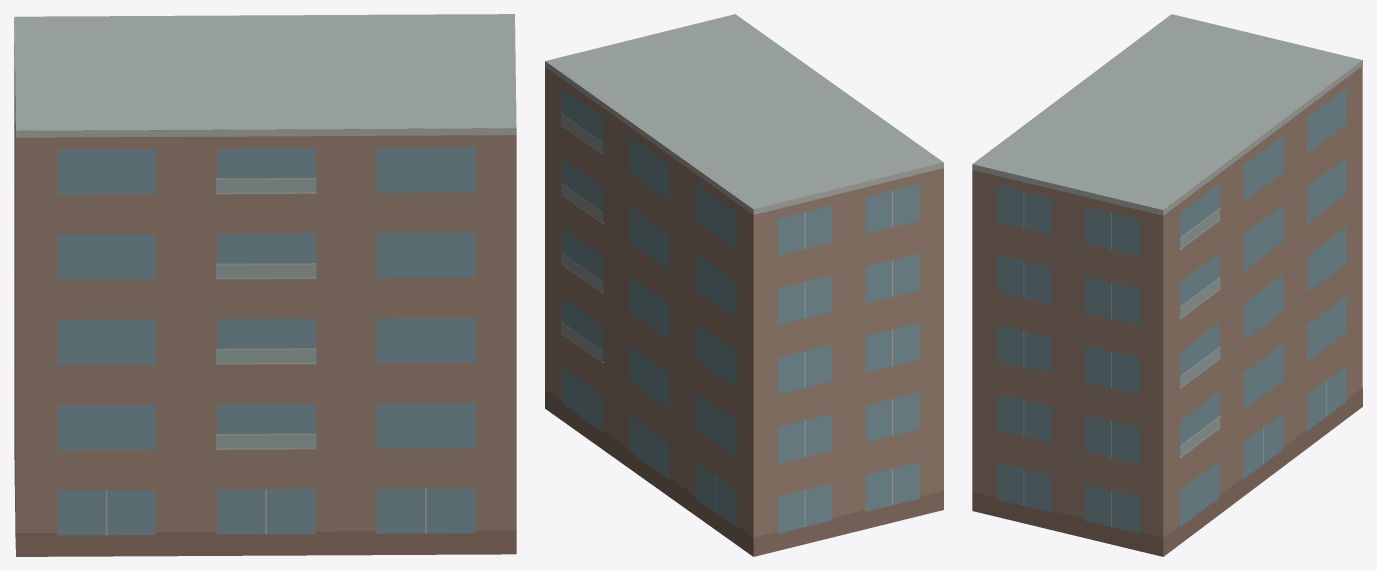
The model's file is survey-upis-32893716.glb.
3 views of the same model, side by side, from view 1: azimuth 30°, elevation 25°; view 2: azimuth 150°, elevation 25°; view 3: azimuth 270°, elevation 25° (orthographic). The views are drawn at different scales.
Parts seen in each view (by area): view 1: survey-upis-32893716.tmp; view 2: survey-upis-32893716.tmp; view 3: survey-upis-32893716.tmp.
Boxes of the visible parts, x1,y1,x2,y2 form: survey-upis-32893716.tmp: (14, 14, 516, 556); survey-upis-32893716.tmp: (545, 14, 943, 556); survey-upis-32893716.tmp: (972, 14, 1362, 556).
Bounding box in the file's own units: 18.33 × 15.1 × 15.42.
